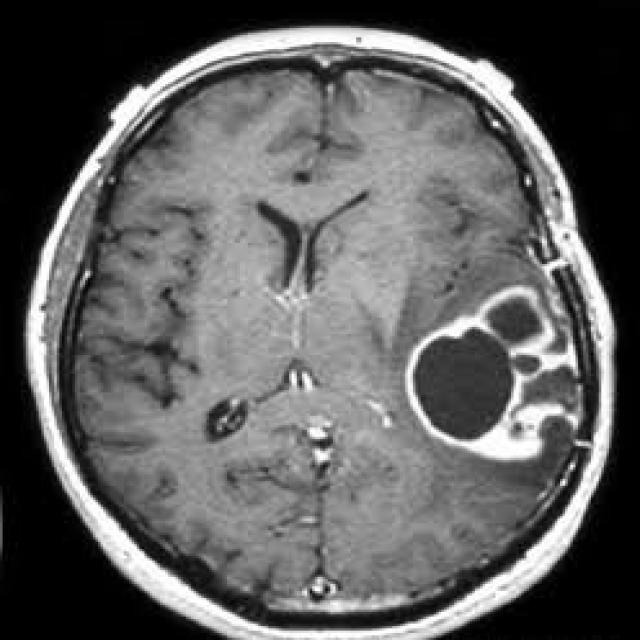Tumor-Cell: (405, 287, 567, 467)
